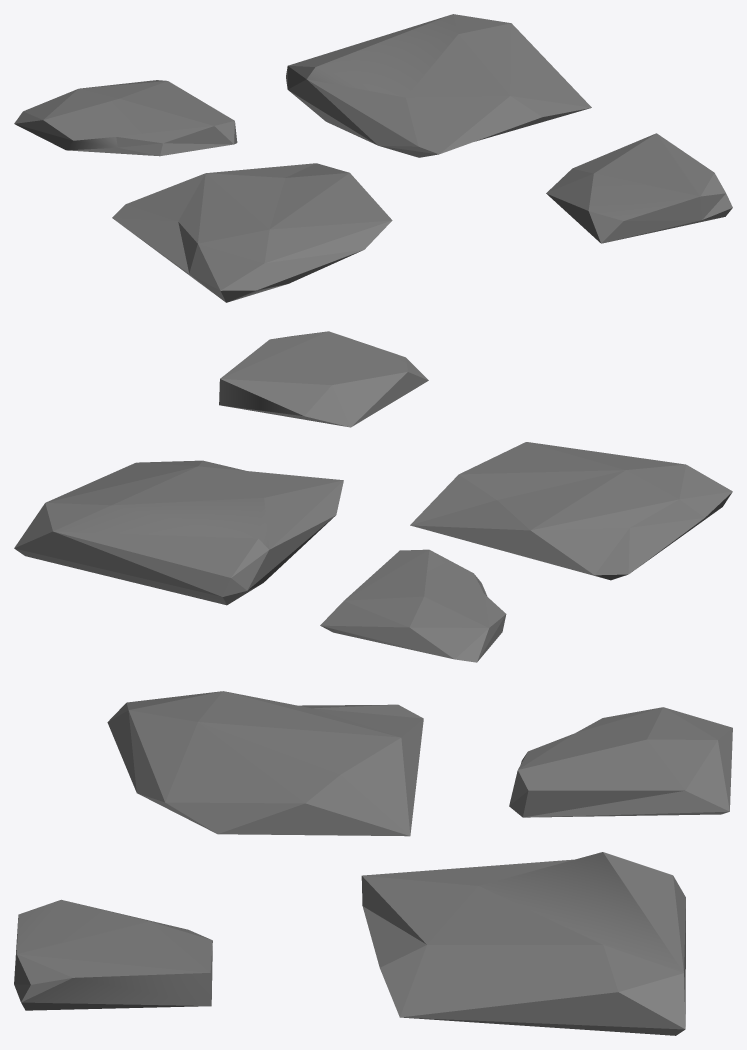
File: Tile_03.fbx
3 views of the same model, one above another, from view 1: azimuth 30°, elevation 25°; view 2: azimuth 150°, elevation 25°; view 3: azimuth 270°, elevation 25° (orthographic). The views are drawn at different scales.
Visible parts, largest first — view 1: Tile_03; view 2: Tile_03; view 3: Tile_03.
Part boxes in pixels (left/top/right/bottom): Tile_03: left=14, top=14, right=732, bottom=302; Tile_03: left=14, top=331, right=732, bottom=662; Tile_03: left=14, top=691, right=732, bottom=1035.
Bounding box in the file's own units: 1.41 × 0.1408 × 1.39.
